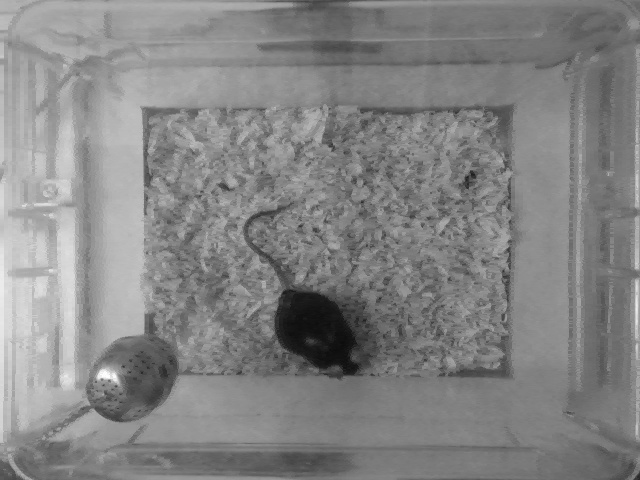mice: (236, 199, 367, 379)
